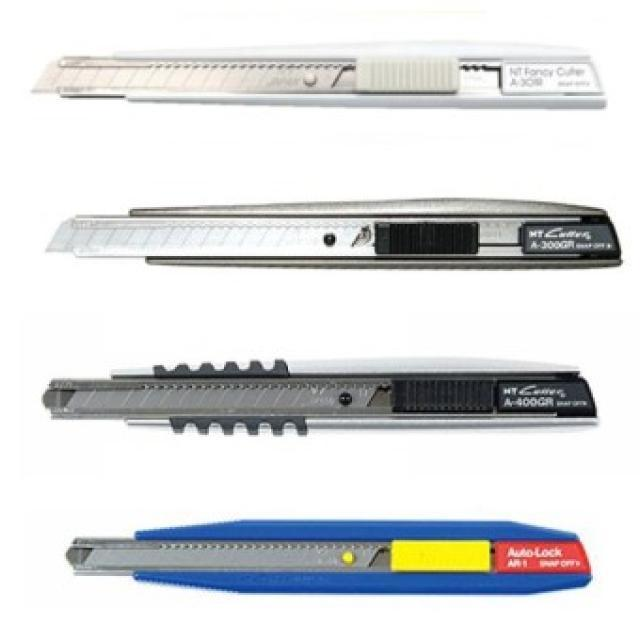cutter: (36, 5, 614, 134), (39, 180, 628, 288), (48, 506, 624, 616), (28, 350, 608, 450)
